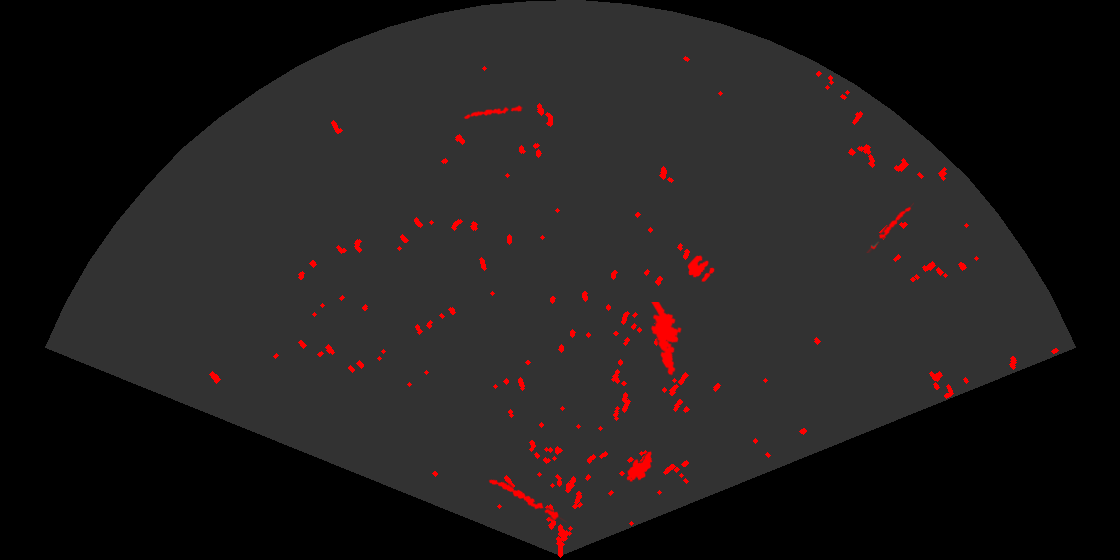AUV: (625, 449, 654, 484)
ball: (686, 254, 716, 284)
chain: (487, 478, 567, 524), (865, 201, 914, 253), (462, 104, 523, 121)
frogman: (649, 302, 683, 377)
